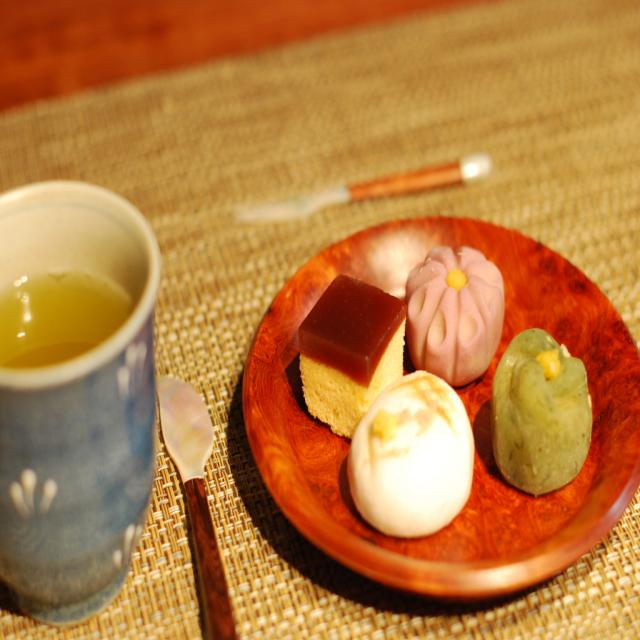Tea: (0, 264, 136, 364)
